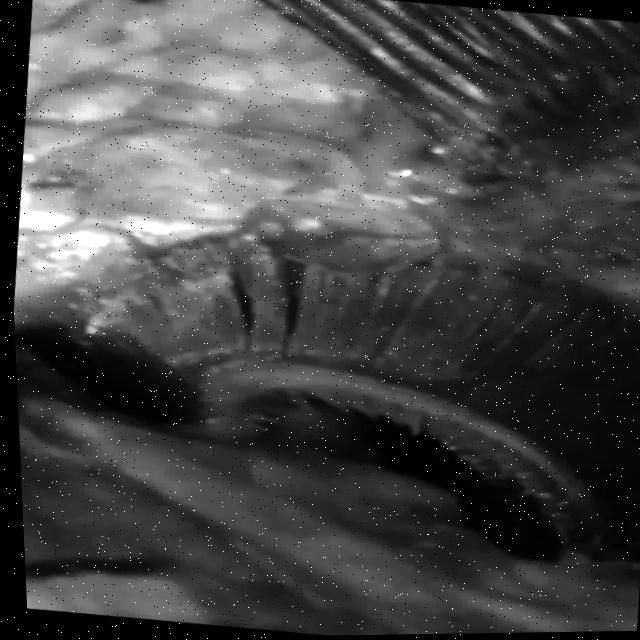Non-Fresh: (38, 174, 640, 575)
